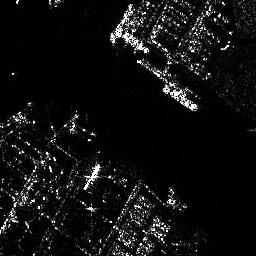ship: (164, 85, 198, 111), (123, 30, 151, 55)
